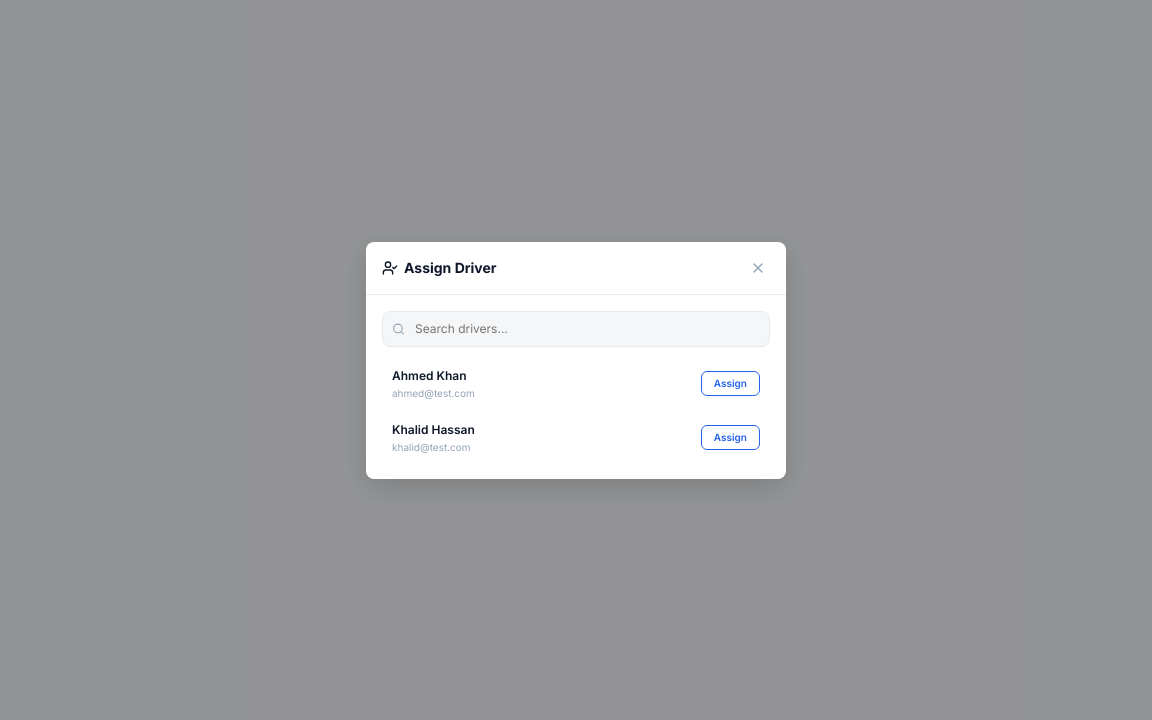
Test case: DriverAssignModal › filters drivers by search
Expected: the text "Ahmed Khan" is shown, [392,366,475,384]
Type "Khalid" into the field with placeholder "Search drivers..." at (576, 328), box [382,310,770,346]
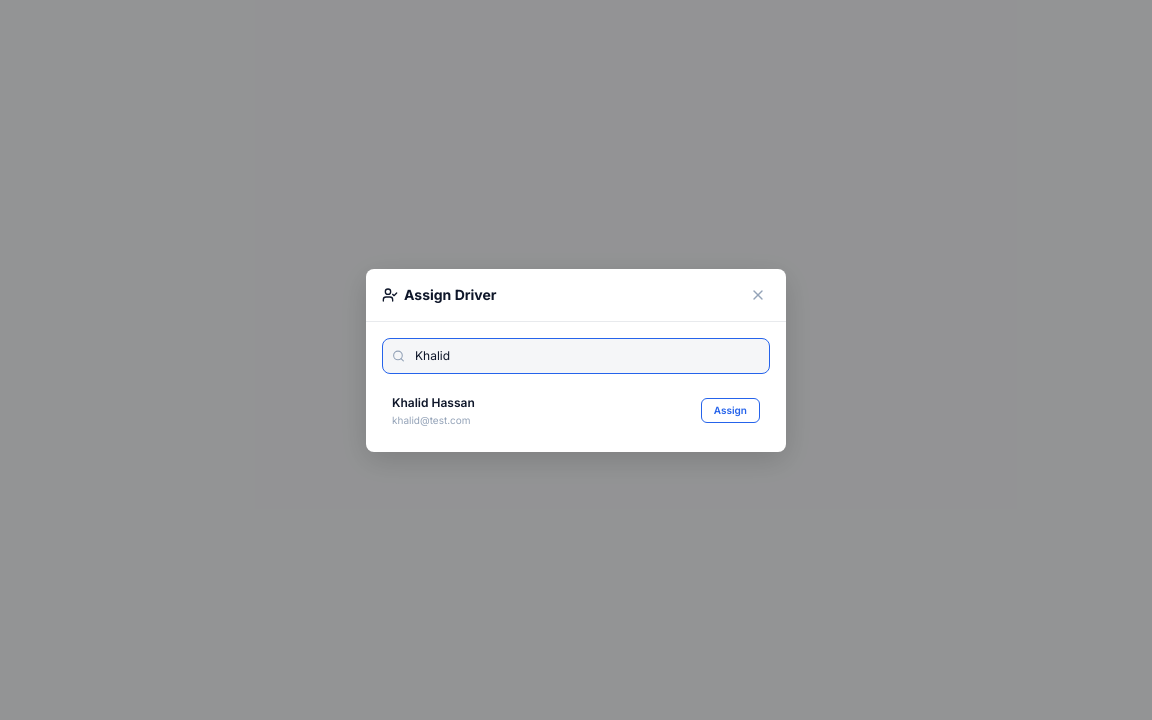
Expected: the text "Khalid Hassan" is shown, [392,394,475,412]
Expected: the text "Ahmed Khan" is gone
